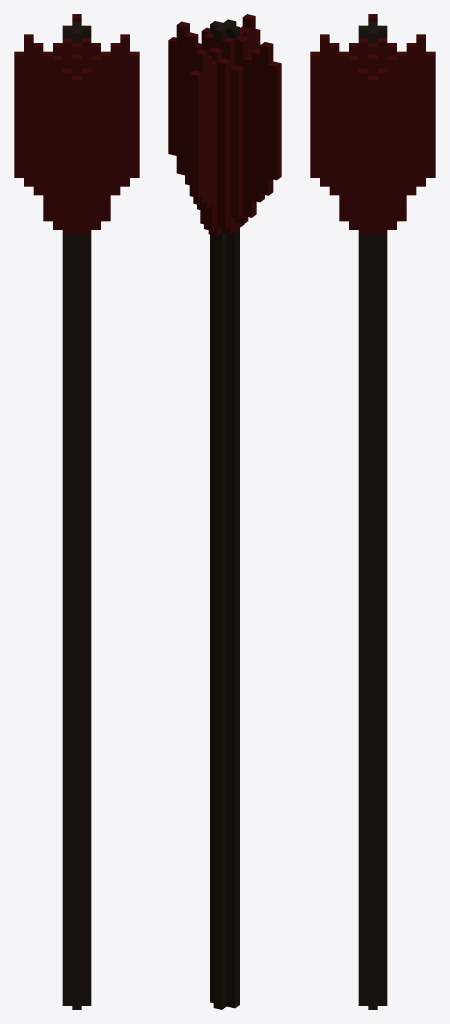
Rendered from Arrow_Broadhead_Half_Large.obj.
3 renders of one model, left to right at view 1: azimuth 90°, elevation 25°; view 2: azimuth 150°, elevation 25°; view 3: azimuth 270°, elevation 25°, orthographic.
Size of the model in its own units: 1.3 by 11.2 by 1.3.
Materials: 1 (1 with a texture image).
